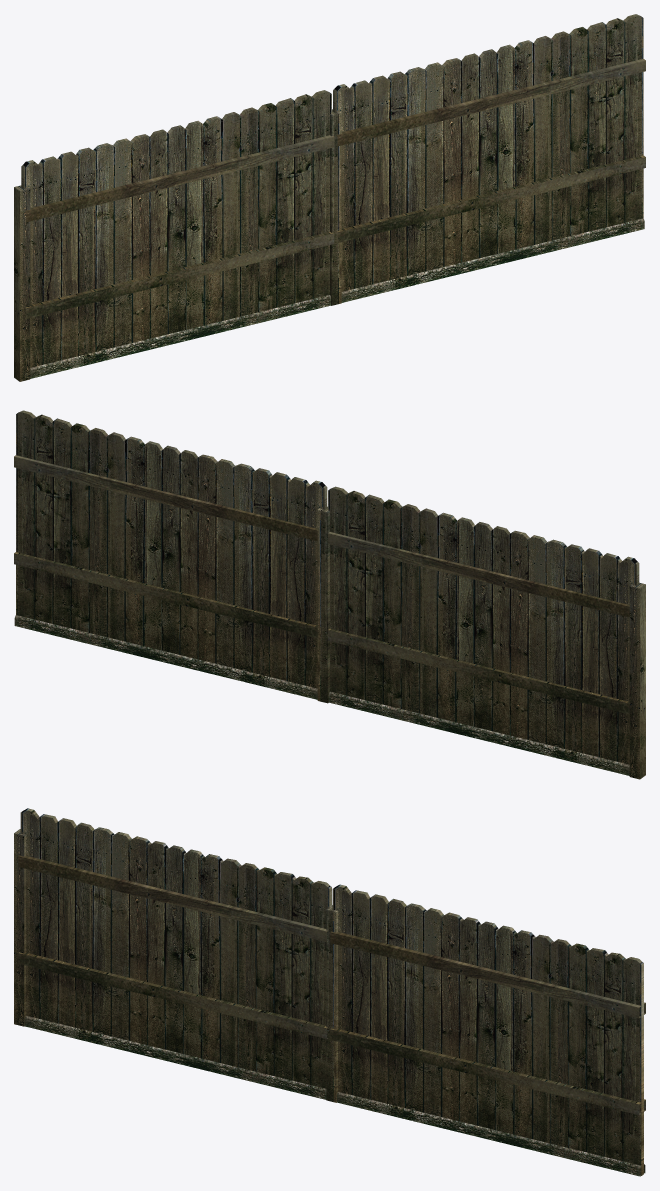
File: Woodfence.fbx
3 renders of one model, top to bottom at view 1: azimuth 30°, elevation 25°; view 2: azimuth 150°, elevation 25°; view 3: azimuth 330°, elevation 25°, orthographic.
Visible parts, largest first — view 1: woodenfence; view 2: woodenfence; view 3: woodenfence.
Boxes of the visible parts, bbox=[...] form: woodenfence: bbox=[14, 14, 645, 381]; woodenfence: bbox=[14, 410, 645, 779]; woodenfence: bbox=[14, 808, 645, 1176].
Bounding box in the file's own units: 608 × 200 × 11.64.
